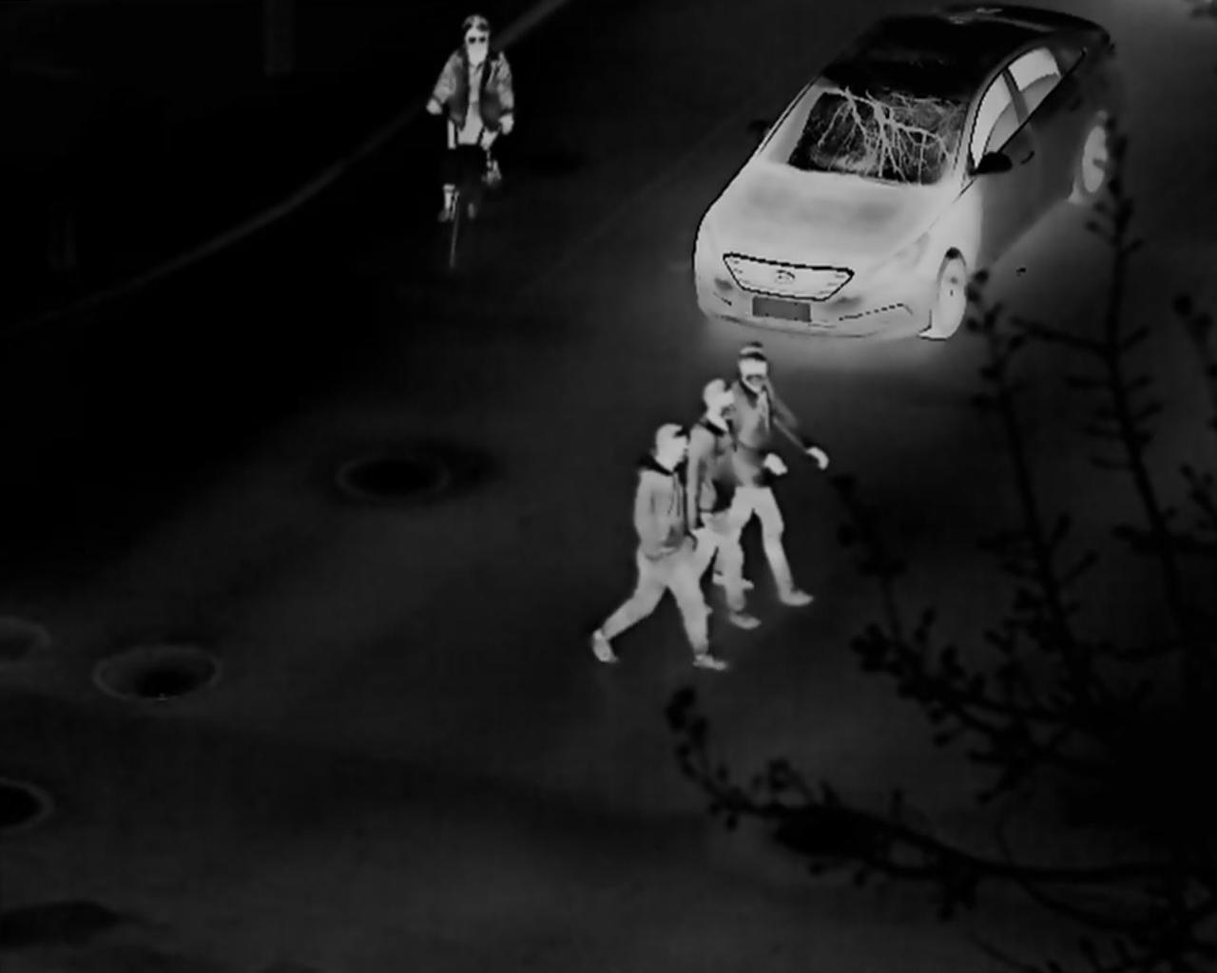person: (590, 422, 730, 671), (729, 339, 827, 607), (686, 378, 763, 632), (424, 13, 516, 223)
